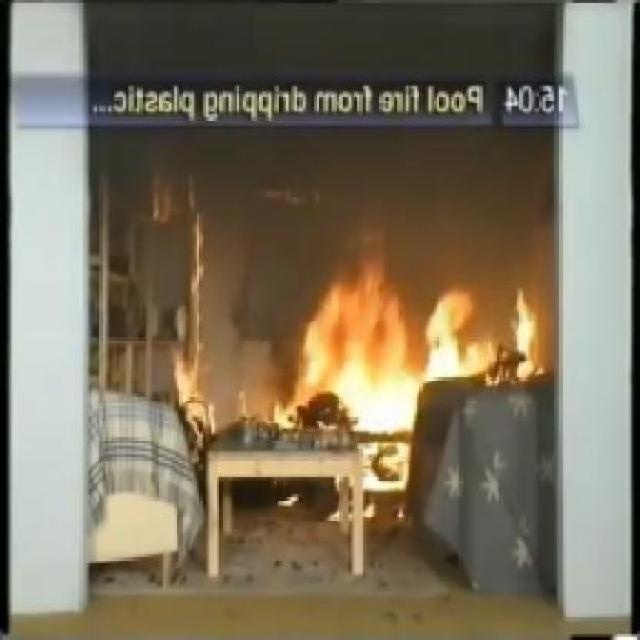fire: (270, 261, 548, 423)
